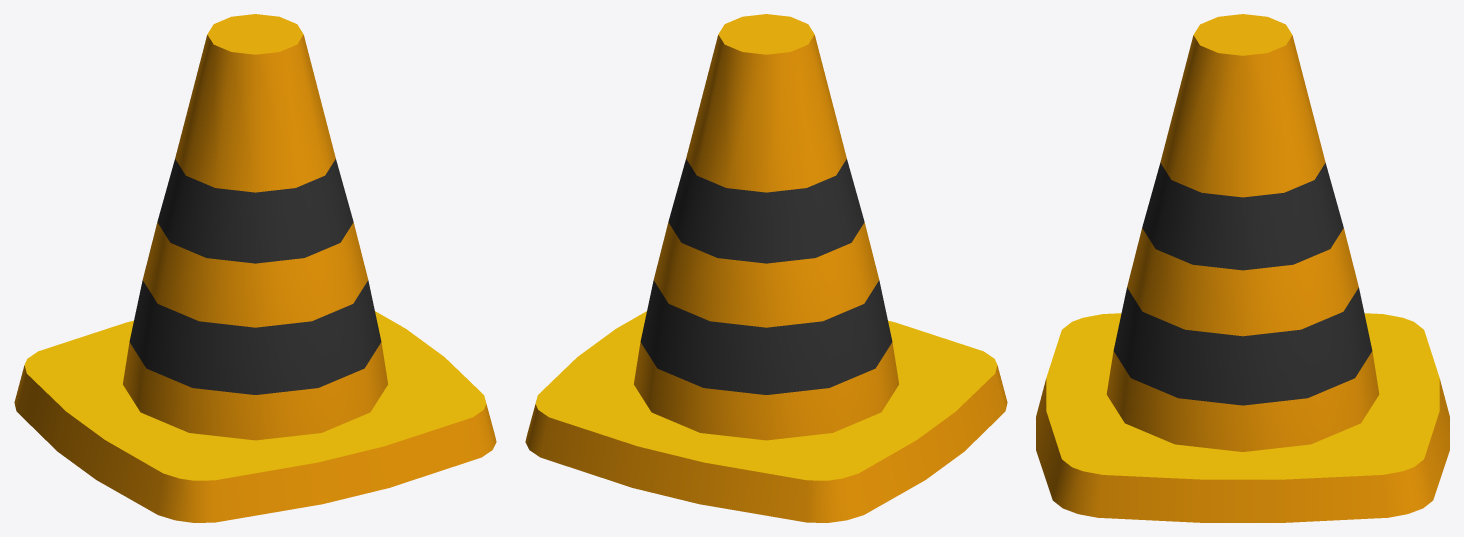
The model's file is Conus.fbx.
3 views of the same model, side by side, from view 1: azimuth 30°, elevation 25°; view 2: azimuth 150°, elevation 25°; view 3: azimuth 270°, elevation 25° (orthographic). The views are drawn at different scales.
Parts seen in each view (by area): view 1: Conus; view 2: Conus; view 3: Conus.
Boxes of the visible parts, x1,y1,x2,y2 form: Conus: (14,14,496,522); Conus: (525,14,1007,522); Conus: (1036,14,1449,522).
Bounding box in the file's own units: 1.44 × 1.5 × 1.41.
